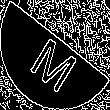M_NE: (26, 21, 84, 89)
